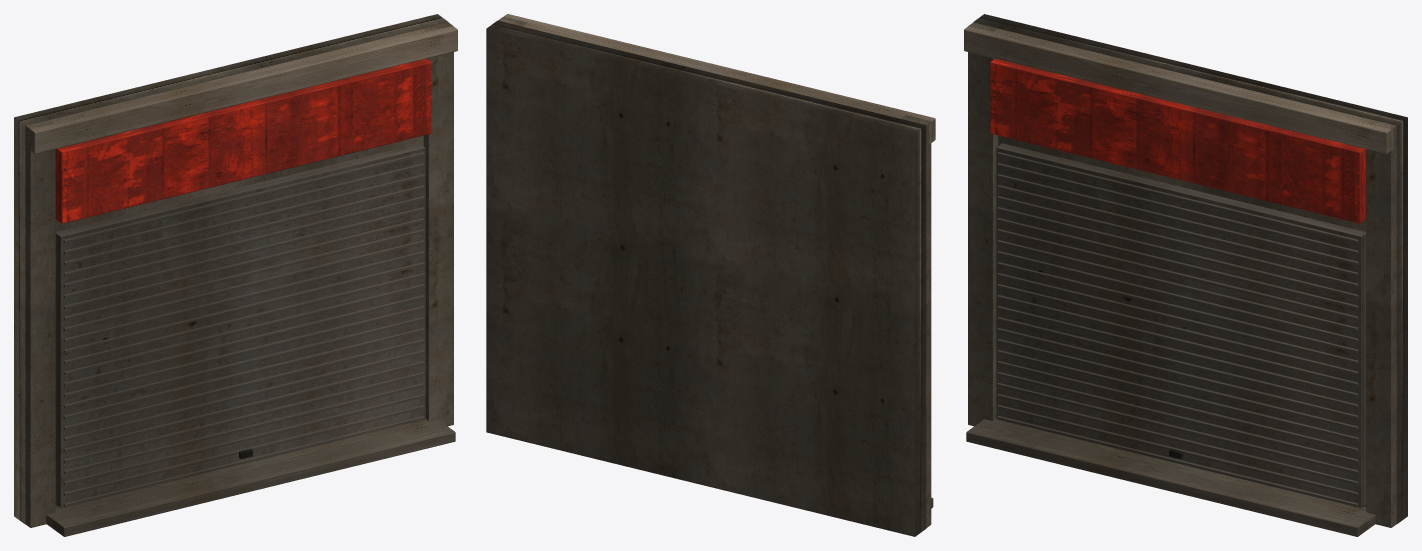
Rendered from mat_tien_tret_02.glb.
3 renders of one model, left to right at view 1: azimuth 30°, elevation 25°; view 2: azimuth 150°, elevation 25°; view 3: azimuth 330°, elevation 25°, orthographic.
Visible parts, largest first — view 1: mat_tien_tret_02.001; view 2: mat_tien_tret_02.001; view 3: mat_tien_tret_02.001.
Part boxes in pixels (box(x1,y1,x2,y2)): mat_tien_tret_02.001: box(14, 14, 457, 536); mat_tien_tret_02.001: box(486, 14, 935, 536); mat_tien_tret_02.001: box(964, 14, 1407, 536).
Bounding box in the file's own units: 4 × 3.6 × 0.56.
Materials: 2 (2 with a texture image).
